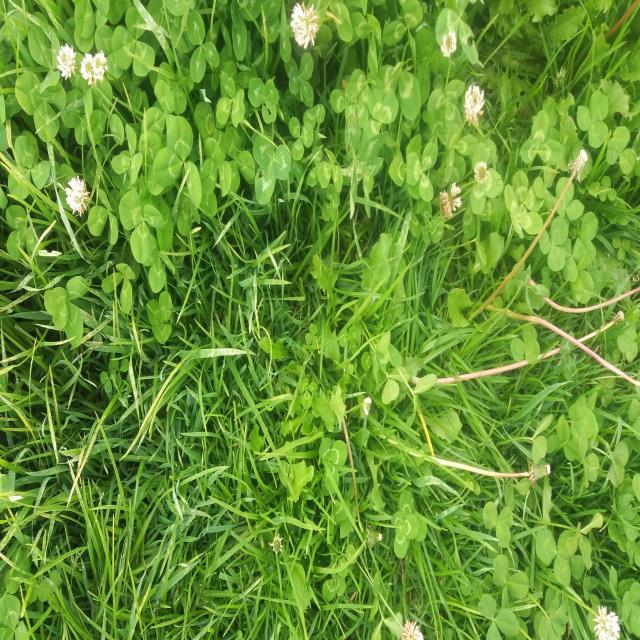Four Leaf Clover: (43, 275, 90, 348)
